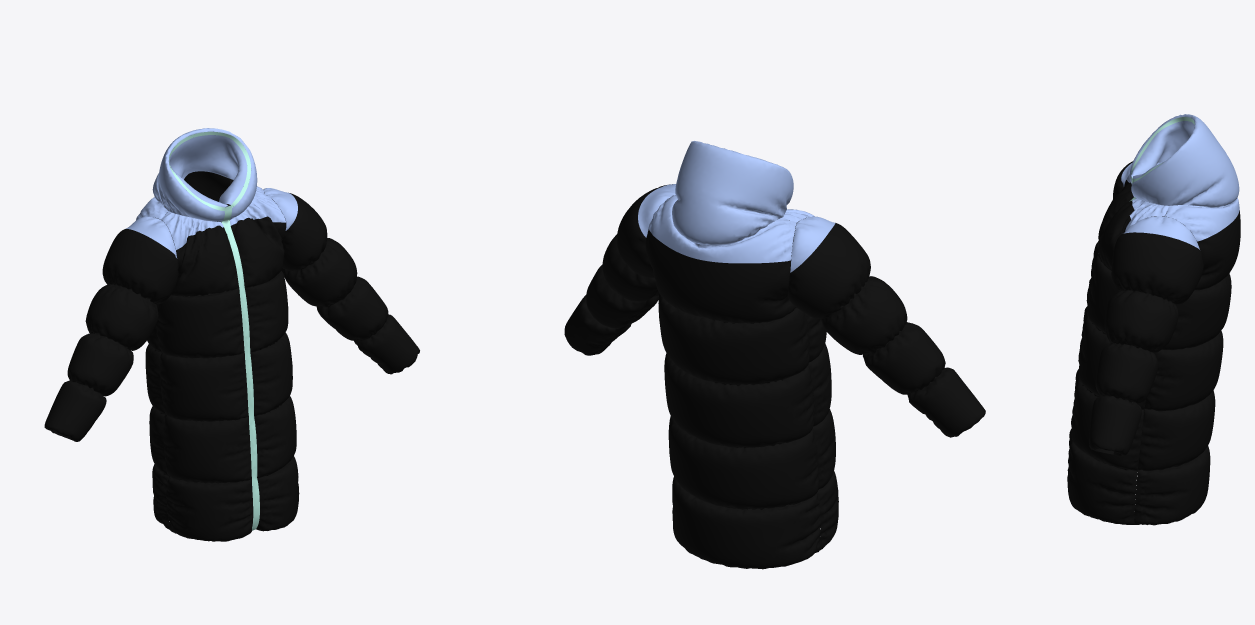
File: Puffer.glb
The picture shows the model from 3 angles, left to right: view 1: azimuth 30°, elevation 25°; view 2: azimuth 150°, elevation 25°; view 3: azimuth 270°, elevation 25°; orthographic projection. The views are drawn at different scales.
Visible parts, largest first — view 1: Puffer; view 2: Puffer; view 3: Puffer.
Boxes of the visible parts, bbox=[...] form: Puffer: bbox=[44, 128, 419, 541]; Puffer: bbox=[564, 141, 985, 569]; Puffer: bbox=[1067, 114, 1240, 525].
Bounding box in the file's own units: 1.33 × 1.34 × 0.4395.
